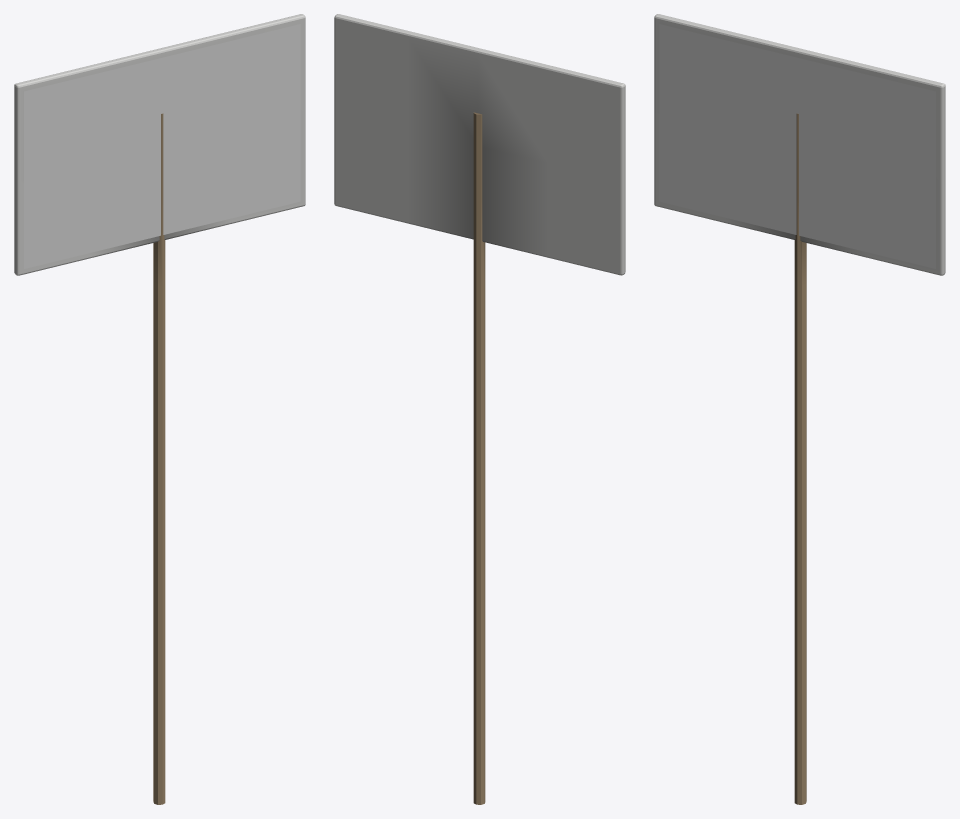
The model's file is pr_picket.glb.
3 renders of one model, left to right at view 1: azimuth 30°, elevation 25°; view 2: azimuth 150°, elevation 25°; view 3: azimuth 330°, elevation 25°, orthographic.
Parts seen in each view (by area): view 1: sign_board, body; view 2: body; view 3: sign_board, body.
Boxes of the visible parts, x1,y1,x2,y2 form: sign_board: (24, 24, 300, 268); body: (14, 14, 305, 804); body: (334, 14, 625, 804); sign_board: (659, 24, 935, 268); body: (654, 14, 945, 804).
Bounding box in the file's own units: 0.92 × 2.29 × 0.034.
